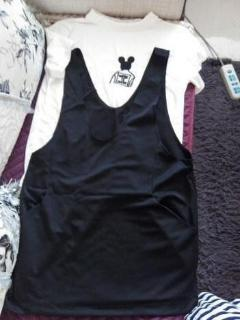short sleeve top: (19, 9, 208, 193)
vest: (0, 47, 199, 319)
